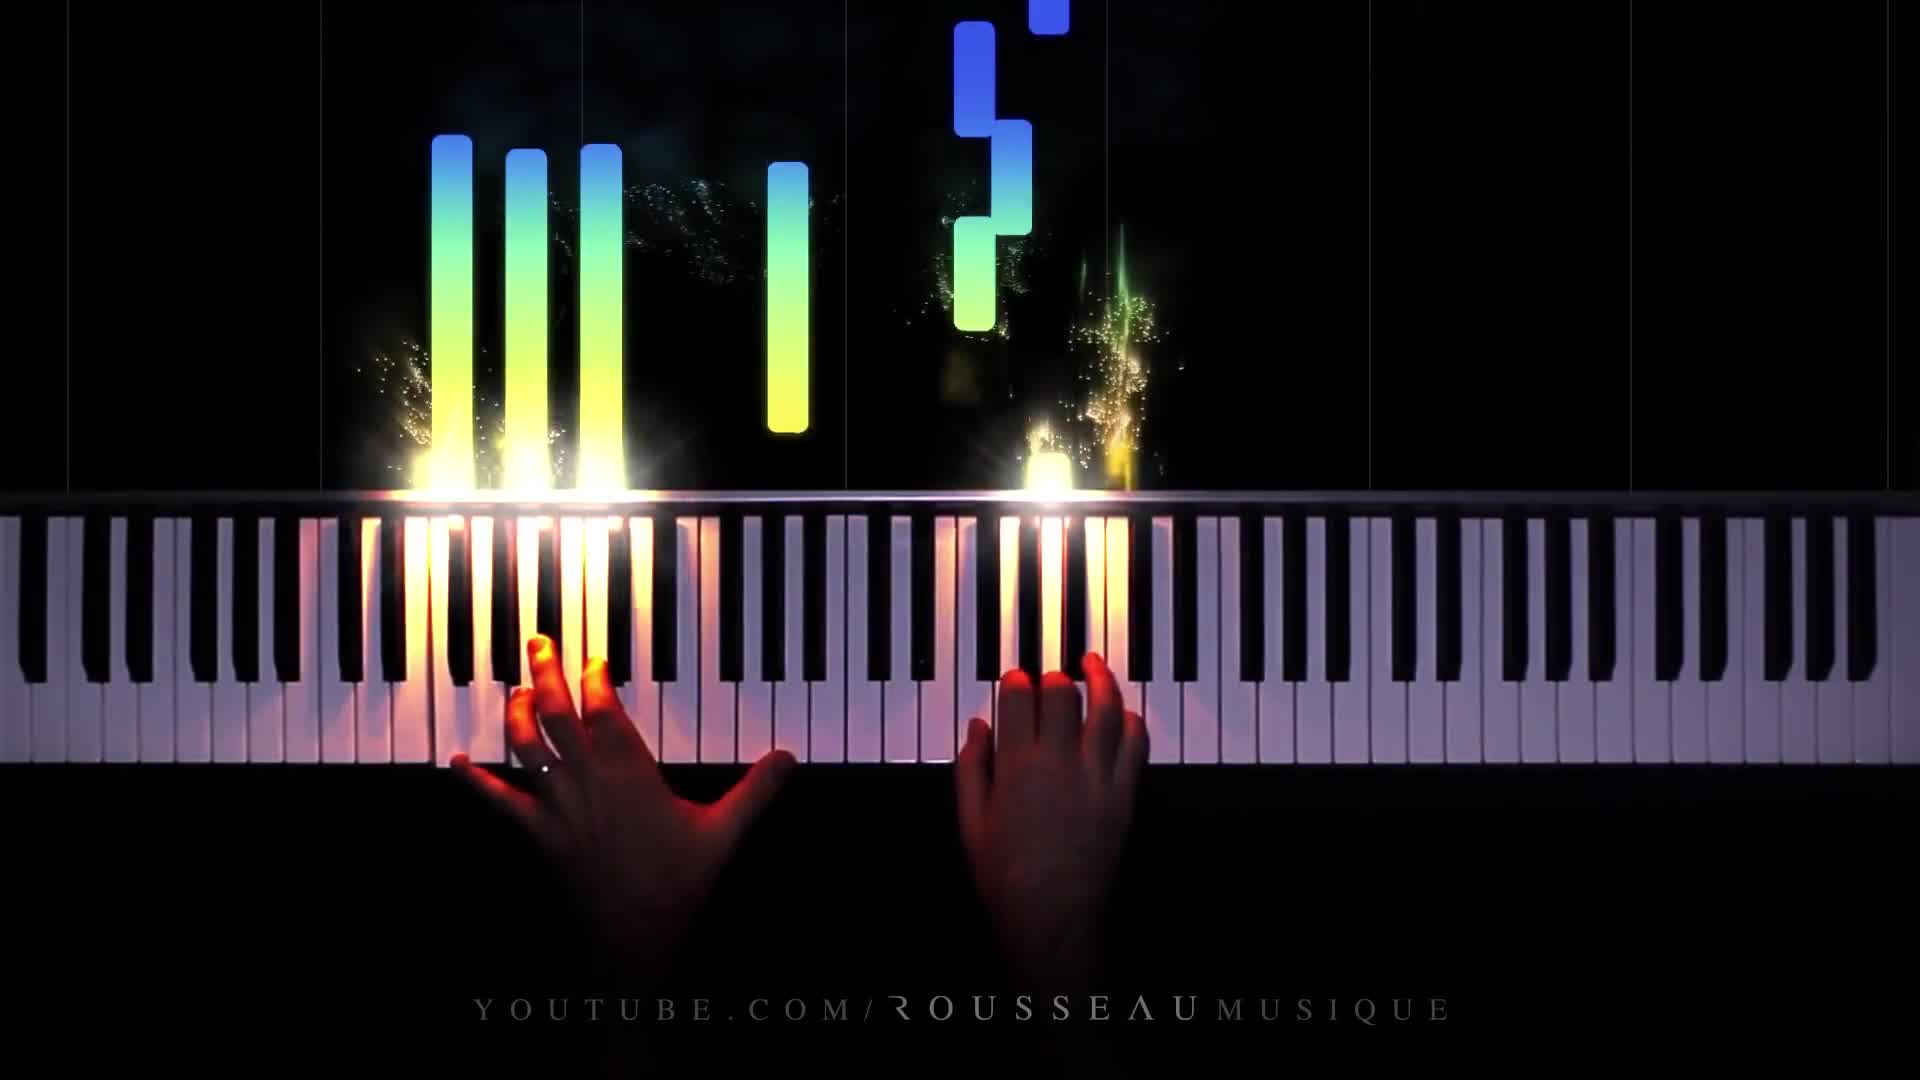left: (448, 622, 802, 935)
right: (956, 651, 1153, 938)
